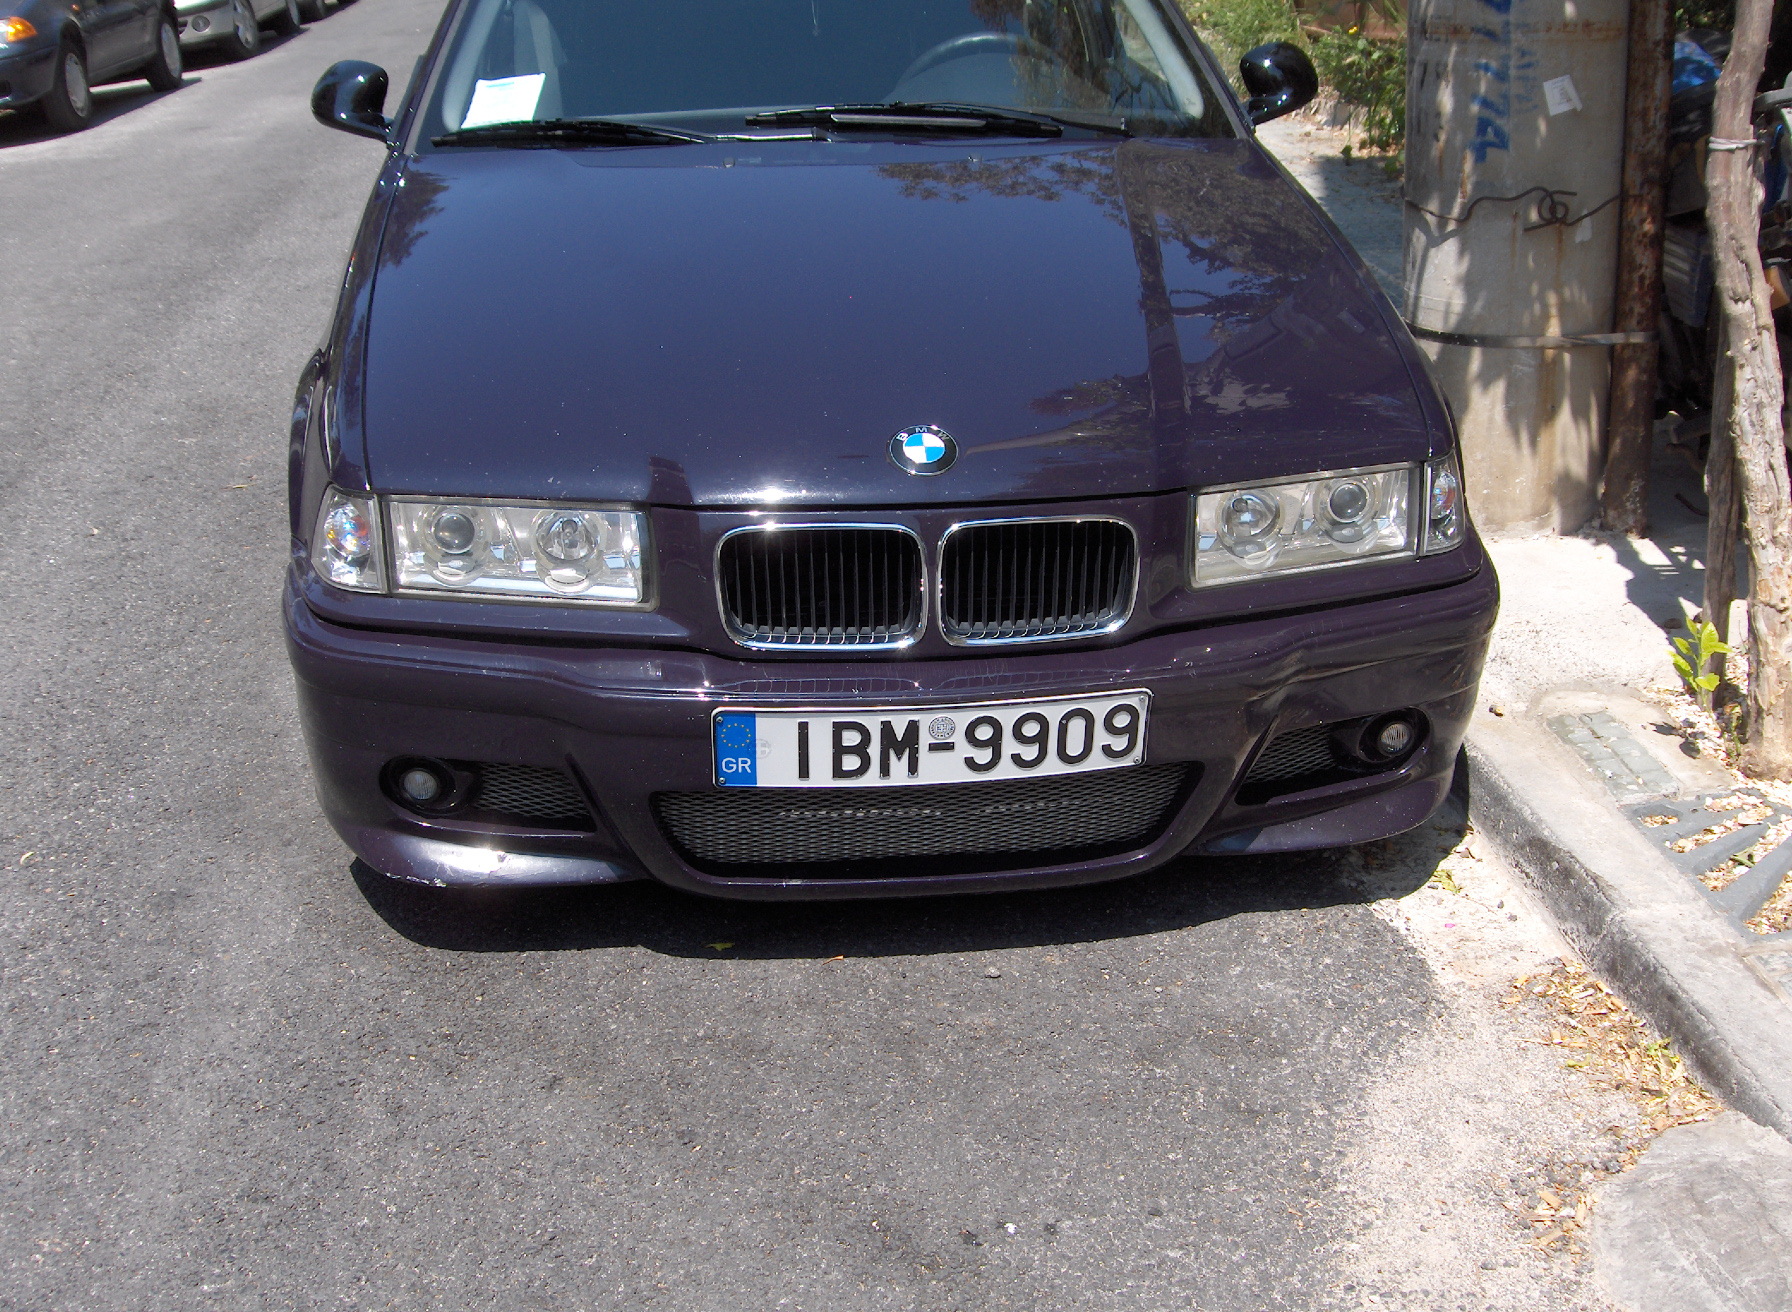licenseplate: (706, 688, 1150, 792)
